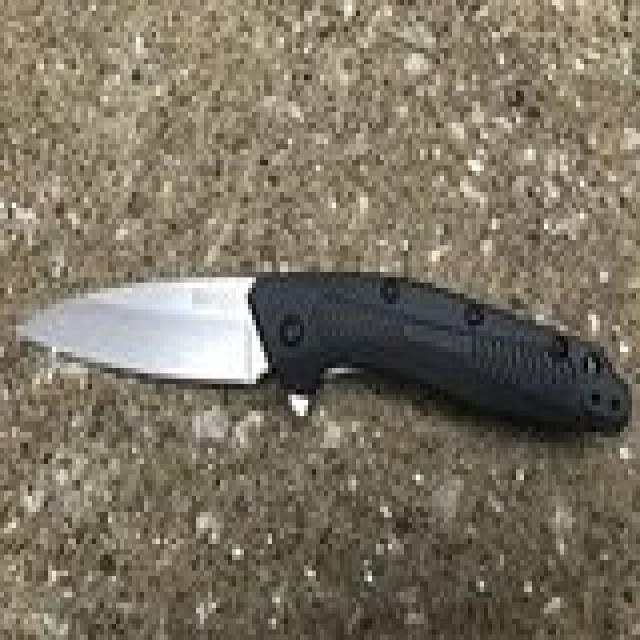Knife: (18, 251, 632, 451)
